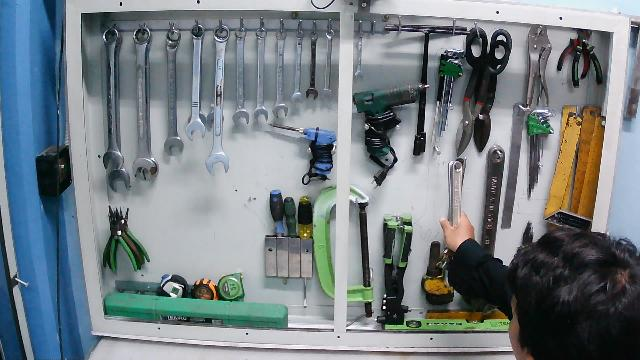kunci_inggris: (440, 157, 471, 271)
